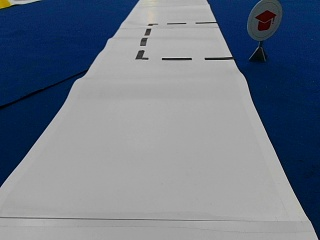school: (246, 1, 281, 39)
